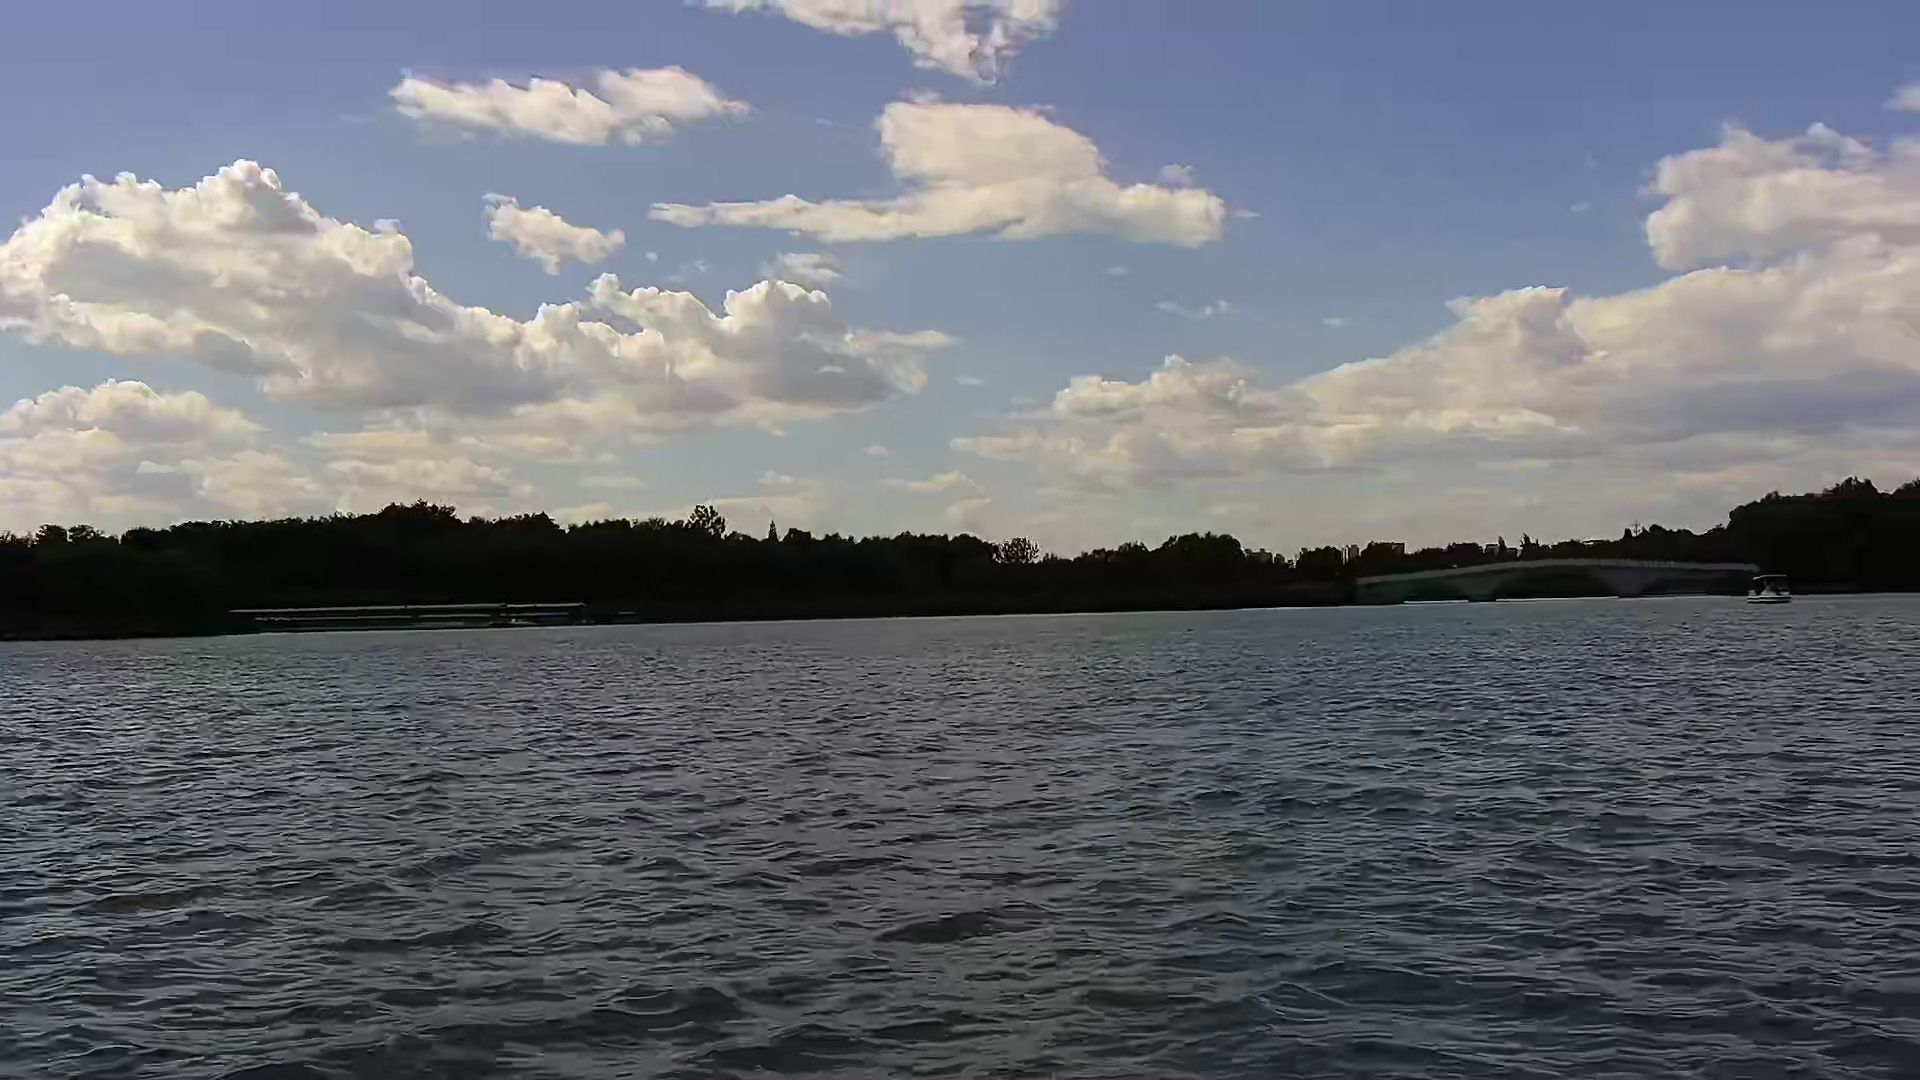boat: (1745, 568, 1791, 601)
bridge: (1358, 555, 1749, 603), (231, 601, 585, 632)
